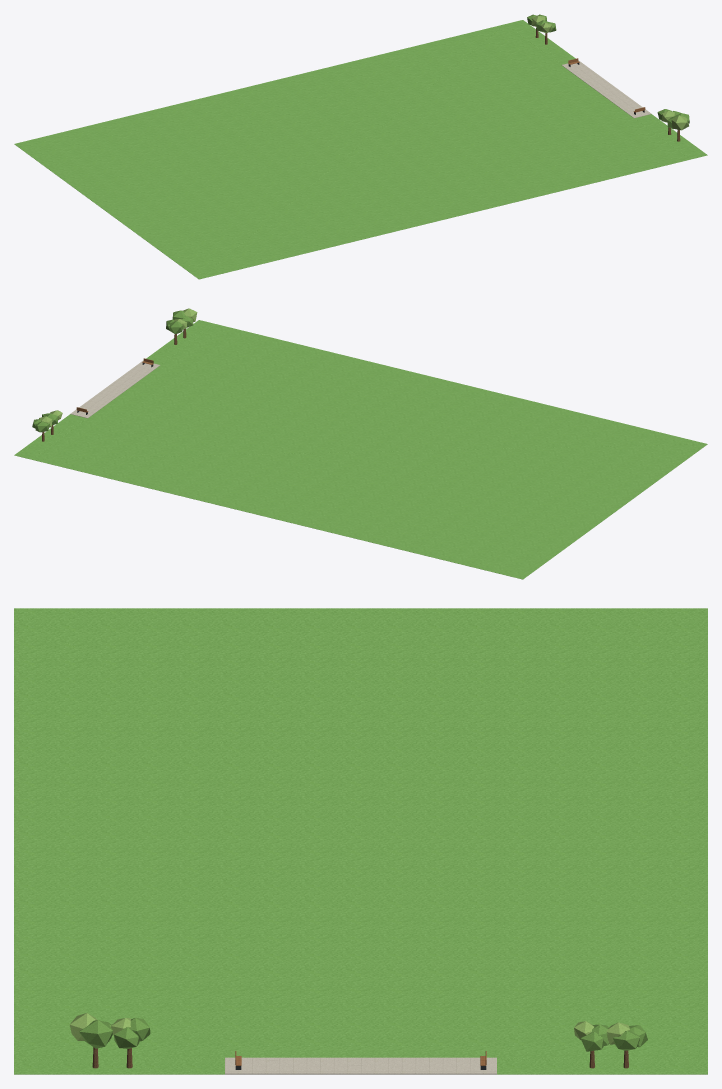
The model's file is sports_ice_rink.glb.
3 views of the same model, one above another, from view 1: azimuth 30°, elevation 25°; view 2: azimuth 150°, elevation 25°; view 3: azimuth 270°, elevation 25° (orthographic). The views are drawn at different scales.
Parts seen in each view (by area): view 1: SIR_Lawn0, SIR_Forecourt, SIR_Tree0_Leaf1; view 2: SIR_Lawn0, SIR_Forecourt, SIR_Tree0_Leaf0; view 3: SIR_Lawn0, SIR_Forecourt, SIR_Tree0_Leaf0, SIR_Tree0_Leaf1.
Boxes of the visible parts, box(x1,y1,x2,y2) form: SIR_Lawn0: box(14, 20, 707, 279); SIR_Forecourt: box(562, 61, 651, 118); SIR_Tree0_Leaf1: box(531, 15, 688, 130); SIR_Lawn0: box(14, 320, 707, 579); SIR_Forecourt: box(70, 361, 160, 418); SIR_Tree0_Leaf0: box(32, 310, 193, 432); SIR_Lawn0: box(14, 608, 707, 1074); SIR_Forecourt: box(225, 1057, 496, 1074); SIR_Tree0_Leaf0: box(79, 1017, 647, 1051); SIR_Tree0_Leaf1: box(69, 1013, 630, 1044).
Bounding box in the file's own units: 81.54 × 4.3 × 51.
Materials: 7 (7 with a texture image).
